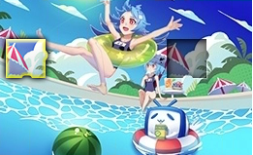gap: (167, 38, 209, 78)
